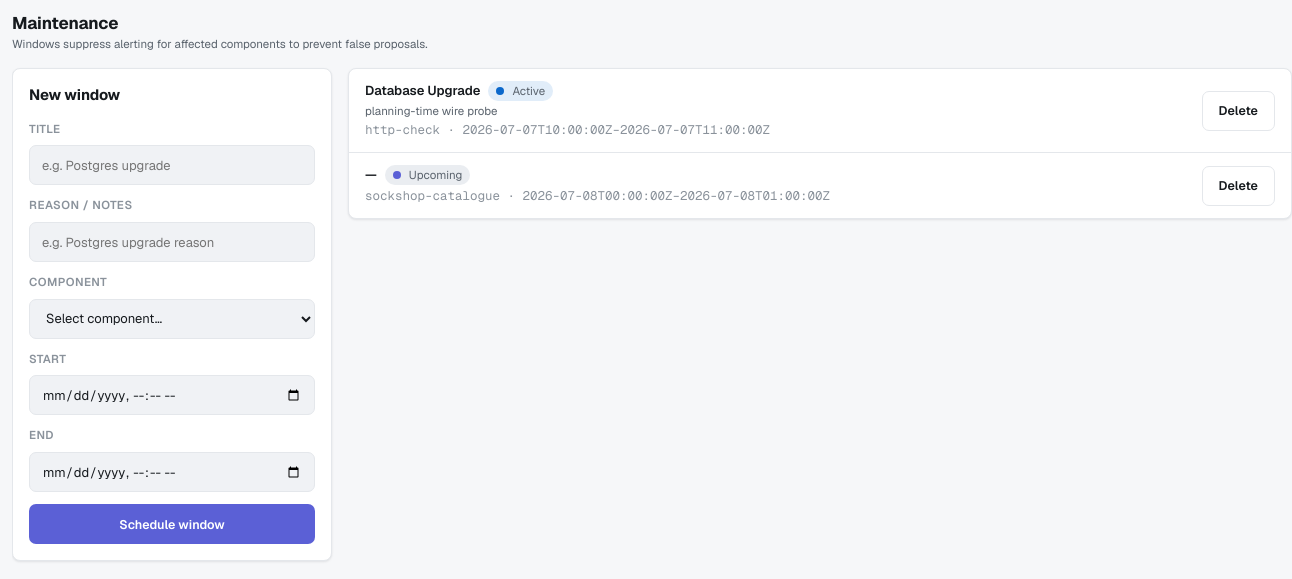
Test case: MaintenancePage › POSTs a tz-aware payload with Title and Reason, refreshes the list, and resets the form on success (AC1, AC2)
Expected: the text "http-check" is shown, [365,121,440,138]
Type "Routine check" into the field labelled "Title" at (172, 165), box [29,145,315,185]
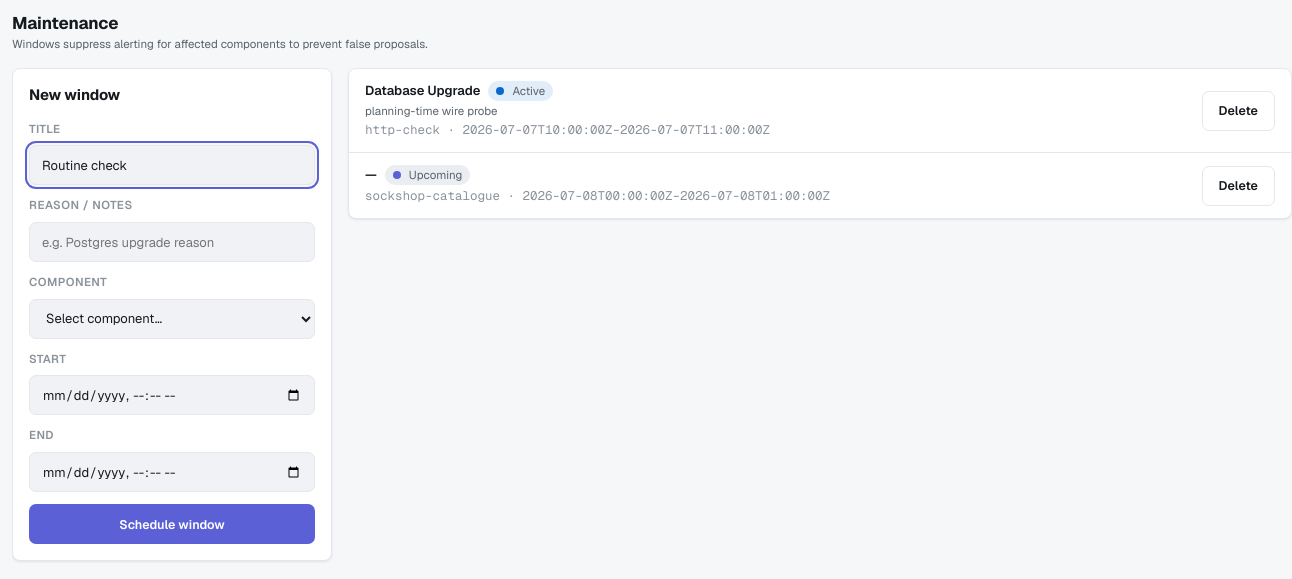
Type "Routine notes" into the field labelled "Reason / Notes" at (172, 242), box [29,222,315,262]
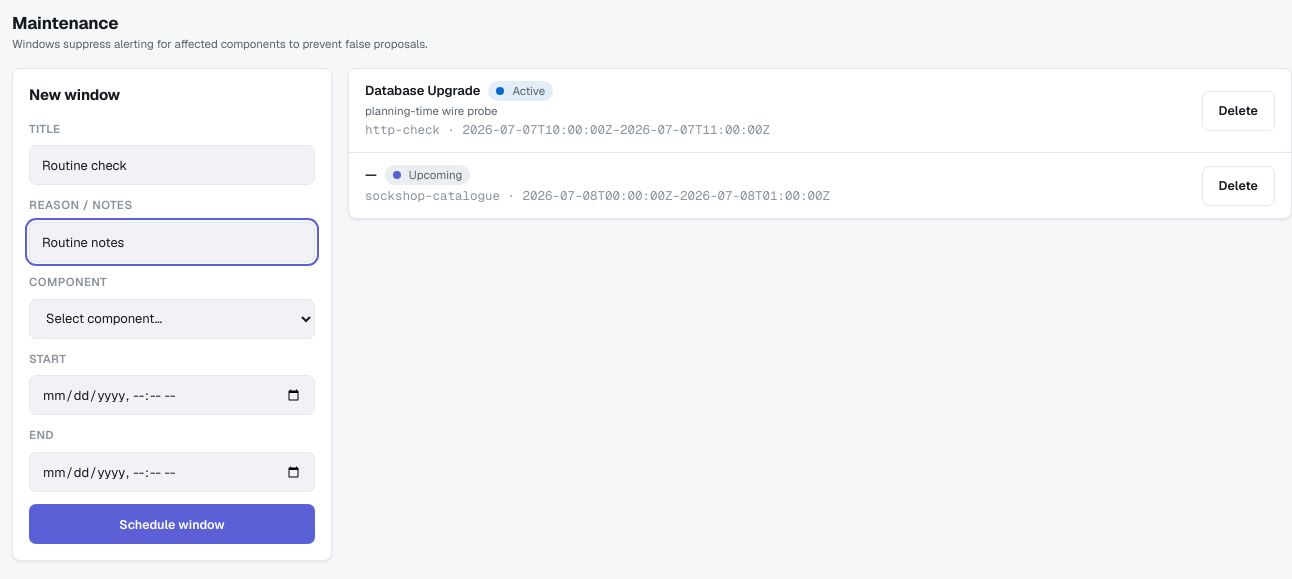
Select "Sock Shop — frontend" in the dropdown labelled "Component" at (172, 319), box [29,299,315,339]
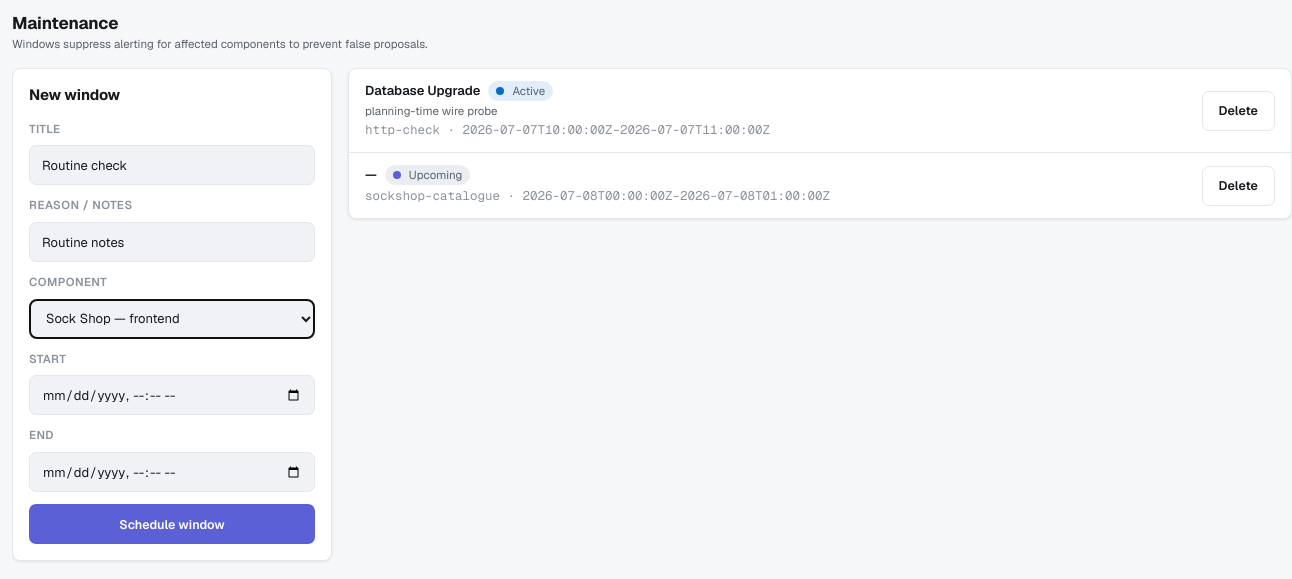
Type "2026-07-09T09:00" into the field labelled "Start" at (172, 395), box [29,375,315,415]
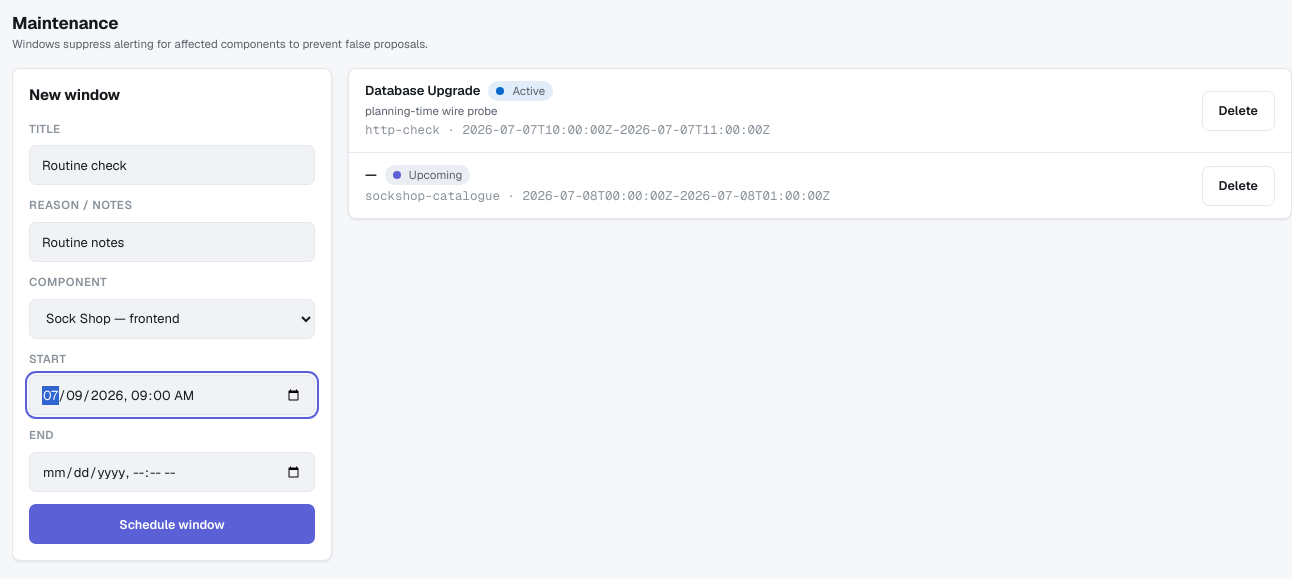
Type "2026-07-09T10:00" into the field labelled "End" at (172, 472), box [29,452,315,492]
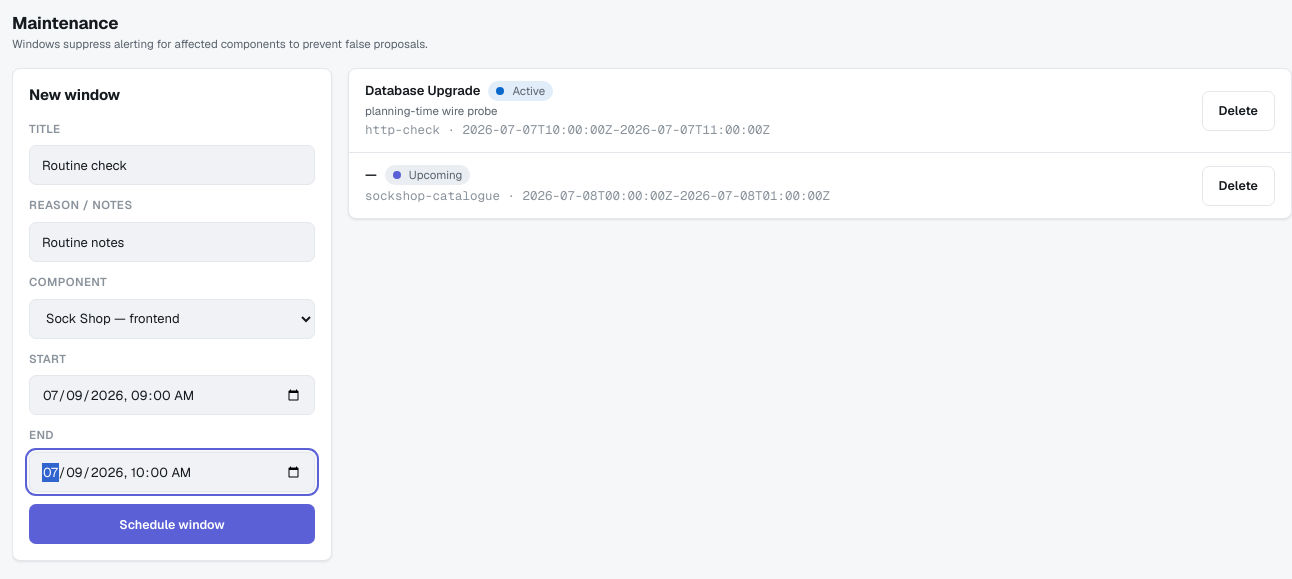
Click the button "Schedule window" at (172, 524), box [29,504,315,544]
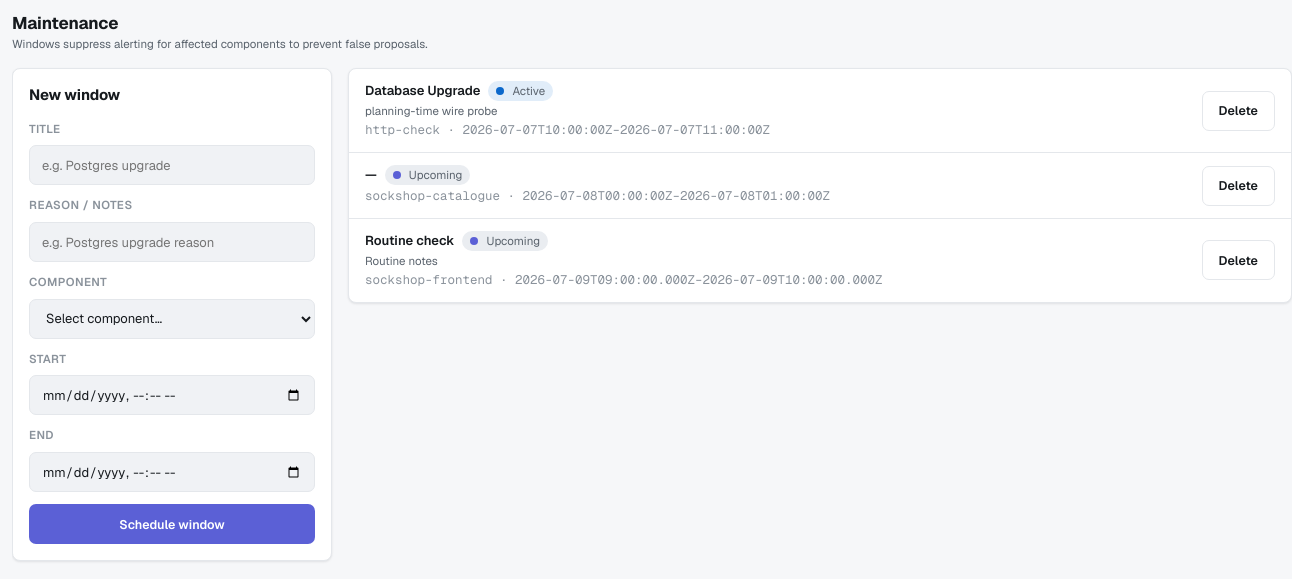
Result: the text "sockshop-frontend" is shown at [365,271,492,288]
Result: the text "Routine check" is shown at [365,232,454,250]
Result: the text "Routine notes" is shown at [365,253,438,268]
